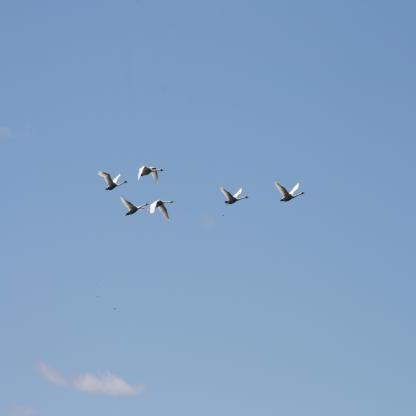bird: (274, 181, 305, 202), (119, 195, 150, 216), (97, 171, 128, 191), (149, 199, 175, 221), (220, 186, 249, 204), (138, 166, 166, 183)
